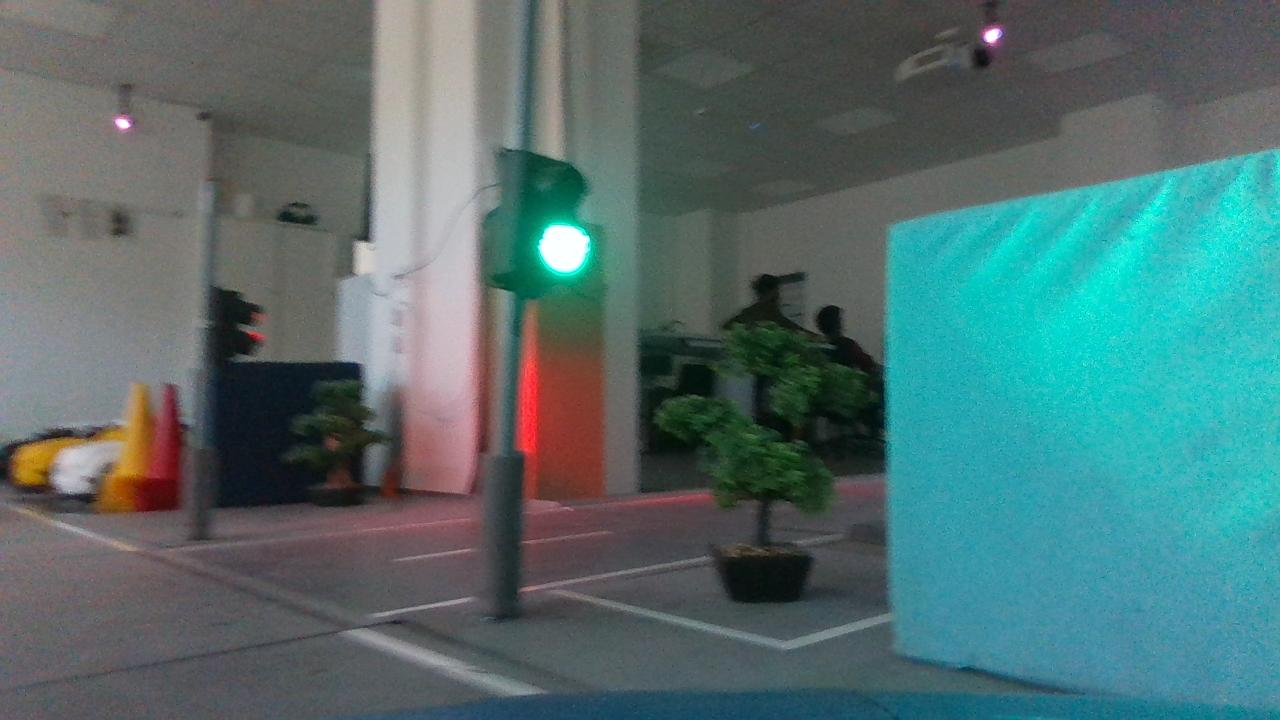traffic_light_green: (468, 124, 600, 303)
